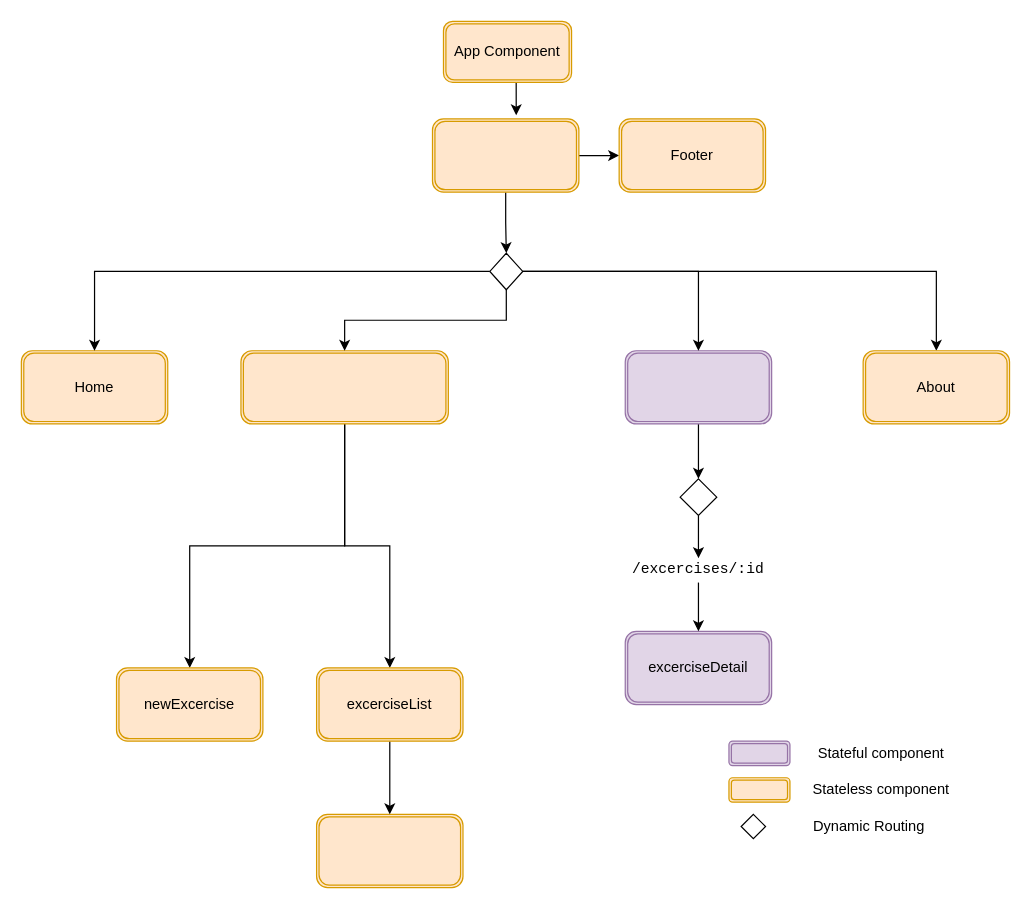
Some shapes in this 1031 by 909 pixel diagram are drawn without their labels. The centre of each missing label's shape, as x and y in pixels:
AddNewExcercise Page: the point at 344,387
excercise: the point at 389,850
Header: the point at 505,155
searchExcercises: the point at 698,387
